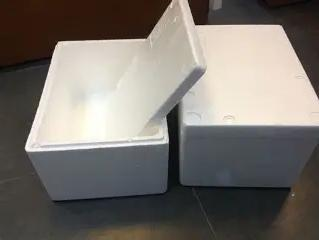ROAD_OBSTACLE: (25, 0, 207, 202), (177, 25, 319, 188)
